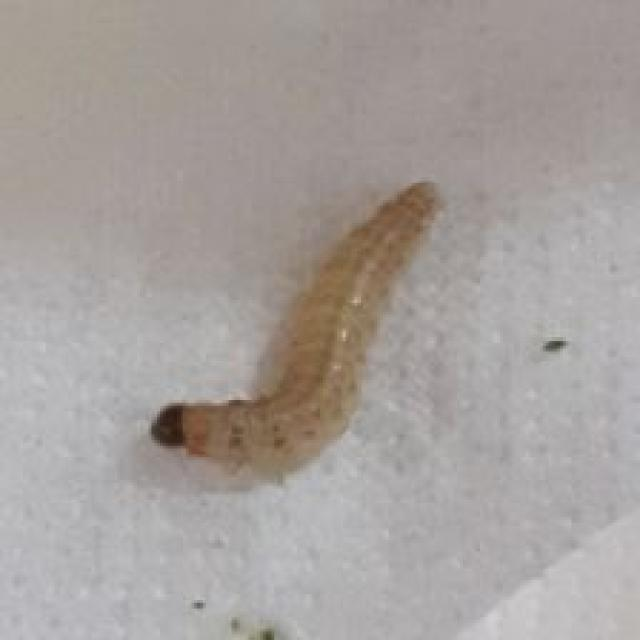white mucus: (107, 160, 498, 487)
